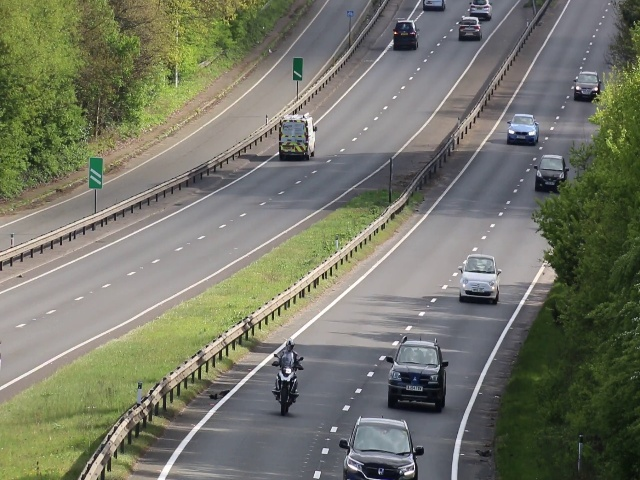car: (343, 417, 420, 480), (388, 332, 447, 411), (460, 252, 499, 304), (280, 110, 317, 156), (507, 109, 539, 146), (537, 152, 565, 191), (570, 67, 604, 99), (391, 16, 419, 50), (457, 17, 482, 42)
